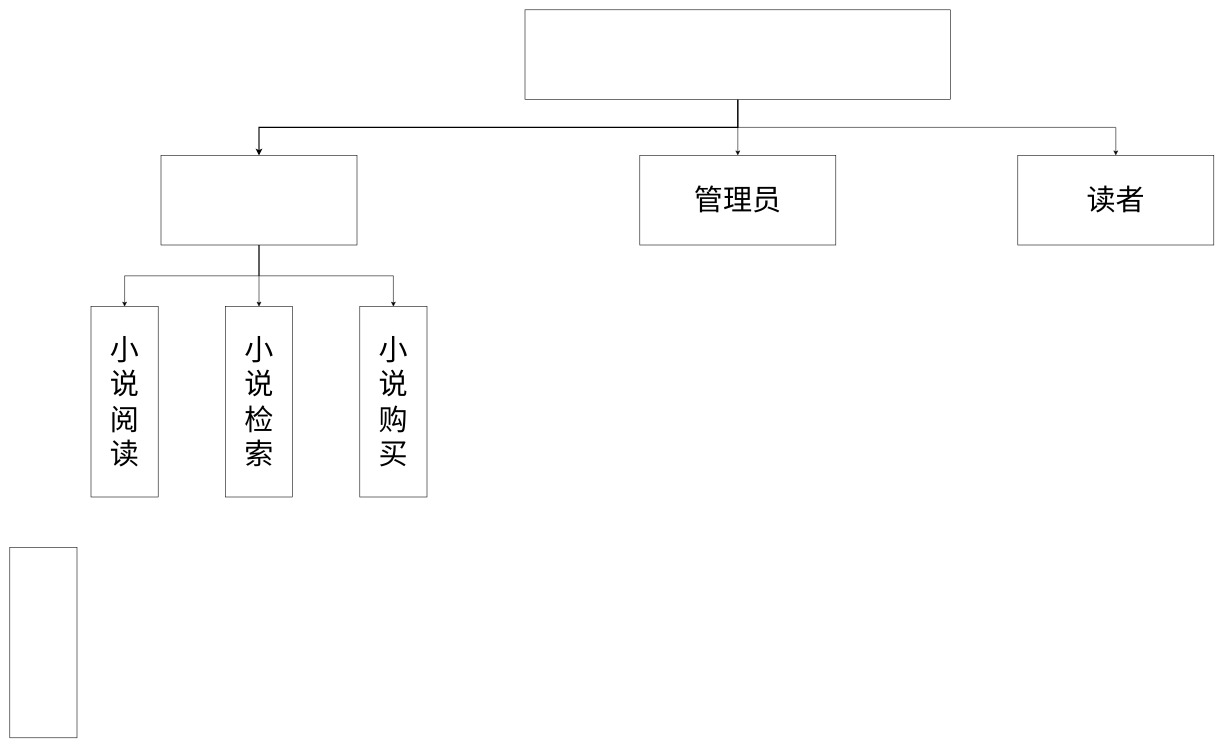
The diagram is 1224 pixels wide and 748 high, and some of its shapes have lost their labels. Each missing label, with the centre of its shape:
"作者" goes at (258,200).
"小说模块" goes at (737,54).
"购买小说章节" goes at (43,642).
